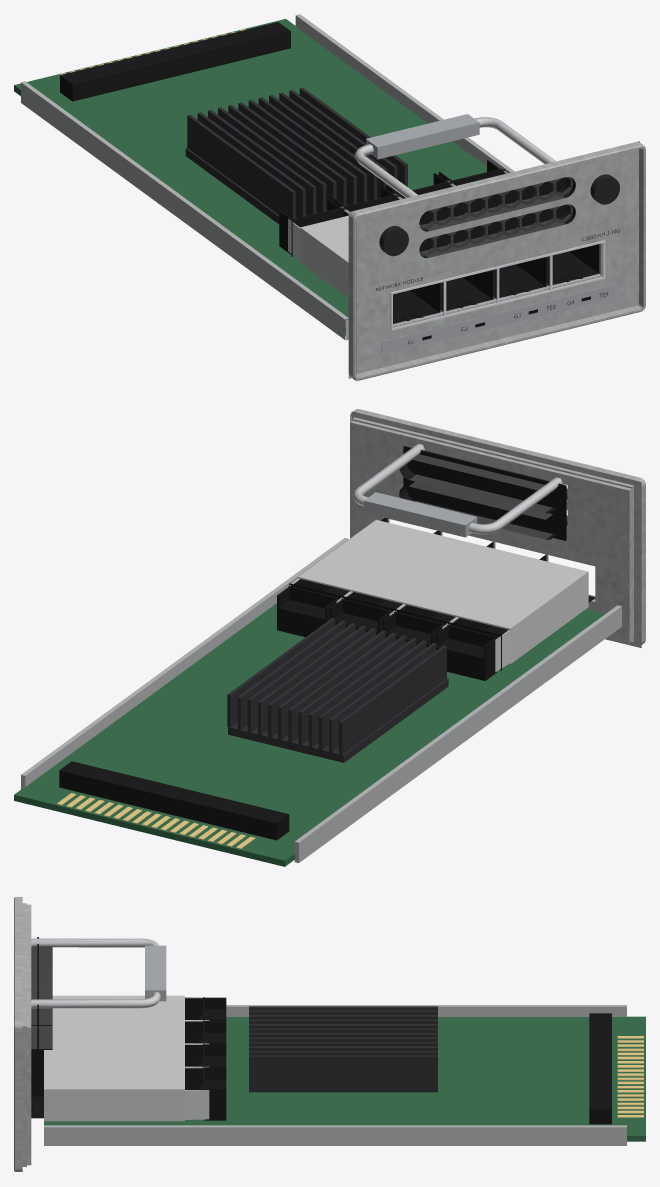
The picture shows the model from 3 angles, top to bottom: view 1: azimuth 30°, elevation 25°; view 2: azimuth 150°, elevation 25°; view 3: azimuth 270°, elevation 25°; orthographic projection. The views are drawn at different scales.
Visible parts, largest first — view 1: Body; view 2: Body; view 3: Body.
Part boxes in pixels (left/top/right/bottom): Body: left=14, top=14, right=645, bottom=380; Body: left=14, top=409, right=645, bottom=866; Body: left=14, top=897, right=645, bottom=1171.
Bounding box in the file's own units: 0.0805 × 0.0438 × 0.1672.
Materials: 15 (3 with a texture image).
